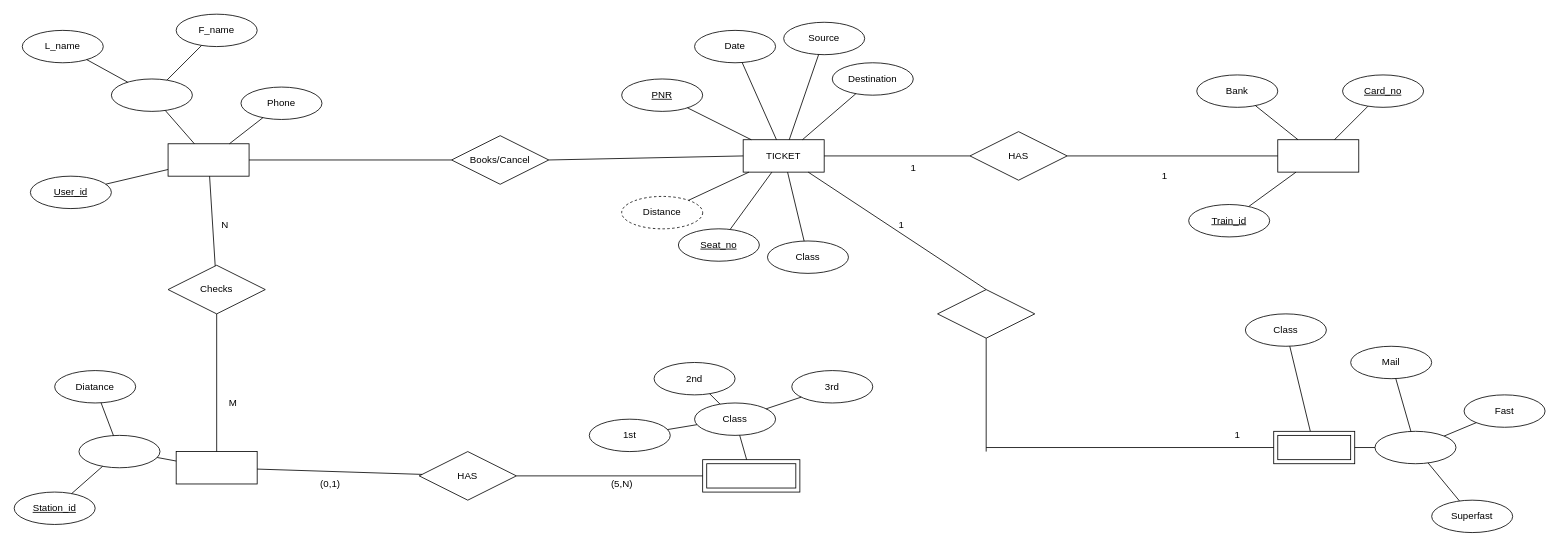
This 1559x547 diagram has some shape labels left out. Here are the shapes that lost their labels. From the top down, the centre of each, then its label:
At (x=151, y=94): "Name".
At (x=208, y=159): "USERS".
At (x=1318, y=155): "PAYMENT INFORMATION".
At (x=986, y=313): "Computing Fare".
At (x=119, y=451): "Route".
At (x=216, y=467): "TRAIN".
At (x=1314, y=447): "FARE TABLE".
At (x=1415, y=447): "Per km".
At (x=751, y=475): "COMPARTMENT".
